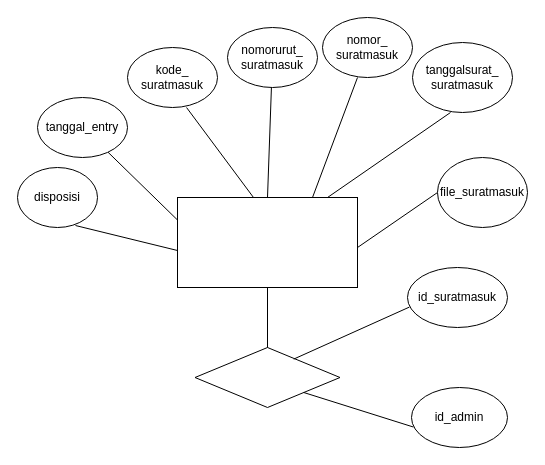
This 545x465 diagram has some shape labels left out. The centre of each missing label's shape, as x and y in pixels:
Mengelola: the point at 267,377
Surat Masuk: the point at 267,242
